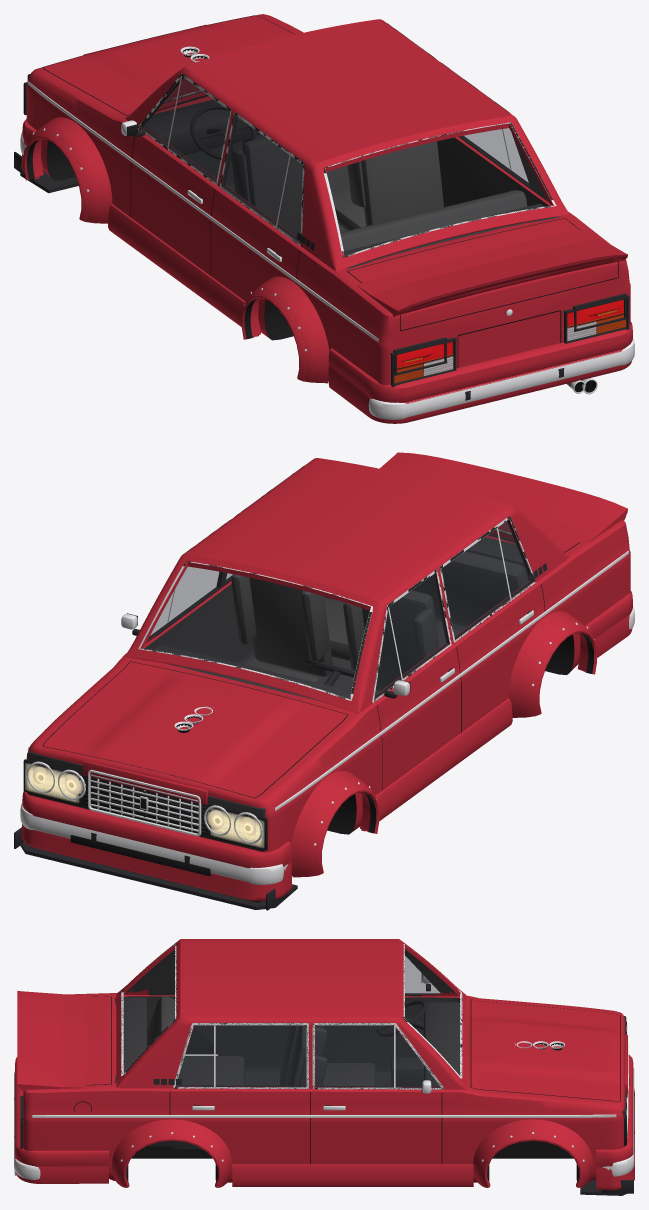
File: lada_2106.glb
3 views of the same model, one above another, from view 1: azimuth 30°, elevation 25°; view 2: azimuth 150°, elevation 25°; view 3: azimuth 270°, elevation 25° (orthographic). The views are drawn at different scales.
Parts seen in each view (by area): view 1: Lada_2106_Body; view 2: Lada_2106_Body; view 3: Lada_2106_Body.
Boxes of the visible parts, bbox=[...] form: Lada_2106_Body: bbox=[14, 14, 634, 423]; Lada_2106_Body: bbox=[14, 452, 634, 910]; Lada_2106_Body: bbox=[14, 939, 634, 1195].
Bounding box in the file's own units: 1.91 × 1.26 × 4.17.
Materials: 3 (1 with a texture image).
